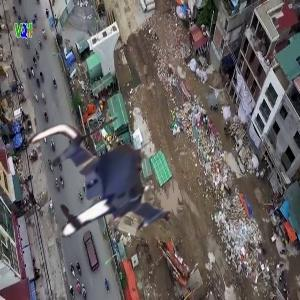drone: (18, 103, 182, 267)
